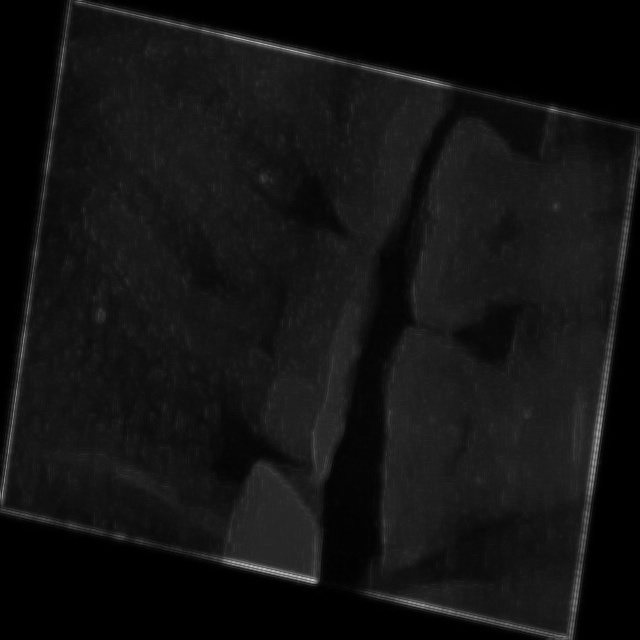Class 1- complete endodontic treatment: (0, 391, 355, 587)
cavity: (40, 95, 418, 492)
